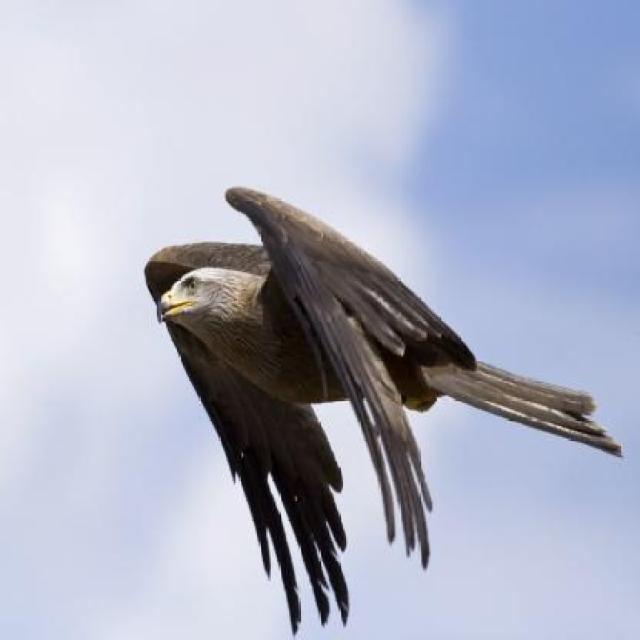Eagle: (141, 182, 622, 625)
